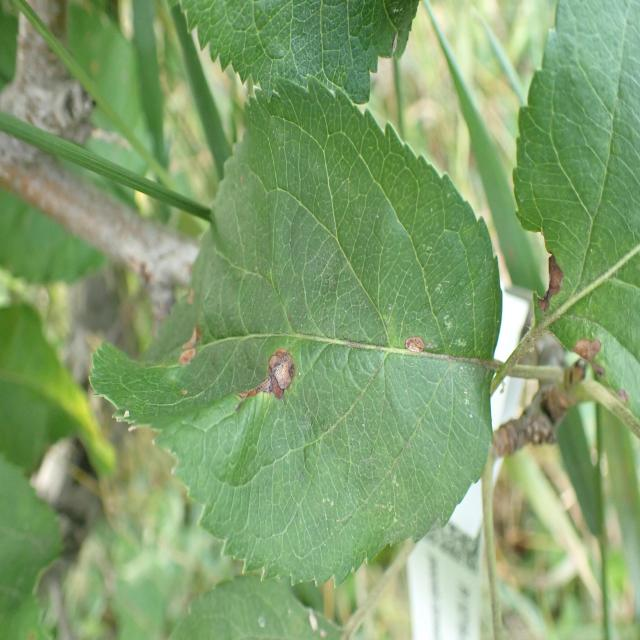Black Rot: (235, 331, 303, 422), (153, 292, 210, 388), (392, 318, 448, 362)
